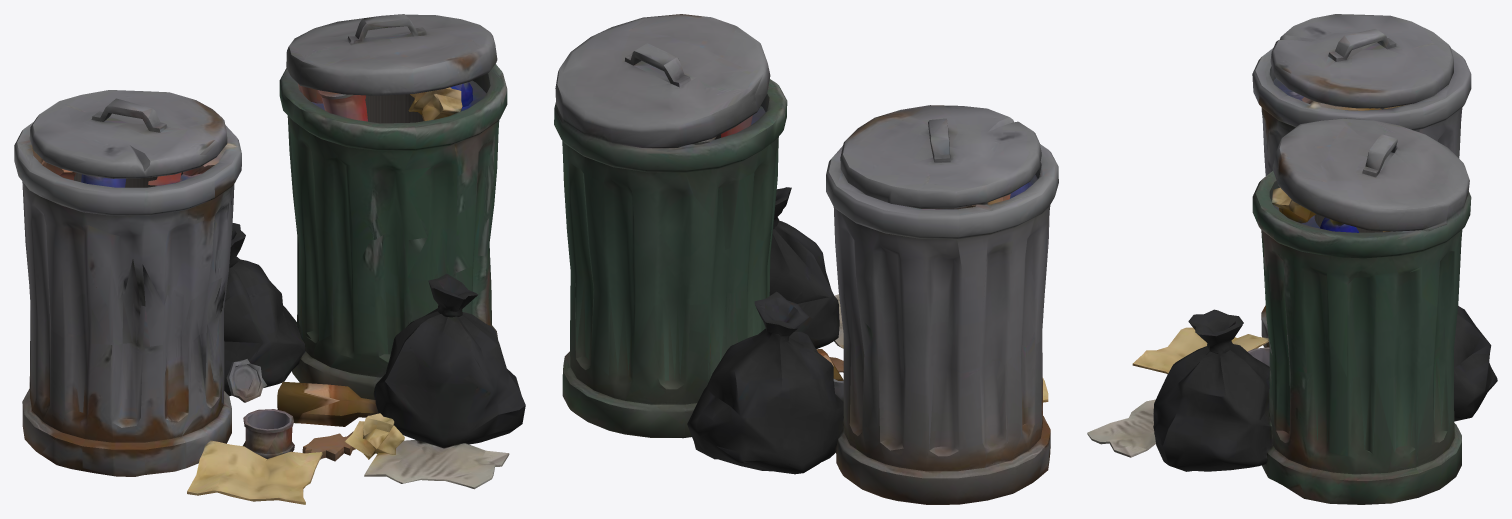
Rendered from isle_trash_bins.glb.
3 renders of one model, left to right at view 1: azimuth 30°, elevation 25°; view 2: azimuth 150°, elevation 25°; view 3: azimuth 270°, elevation 25°, orthographic. The views are drawn at different scales.
Visible parts, largest first — view 1: body, lid_l, lid_r; view 2: body, lid_r, lid_l; view 3: body, lid_r, lid_l.
Part boxes in pixels (x1,y1,x2,y2): body: [14, 64, 525, 504]; lid_l: [16, 90, 240, 194]; lid_r: [286, 14, 497, 111]; body: [554, 79, 1058, 504]; lid_r: [555, 14, 770, 146]; lid_l: [827, 105, 1057, 217]; body: [1087, 59, 1497, 504]; lid_r: [1272, 118, 1469, 231]; lid_l: [1254, 14, 1469, 117].
Size of the model in its own units: 1.6 by 1.14 by 1.3.
Materials: 9 (3 with a texture image).
